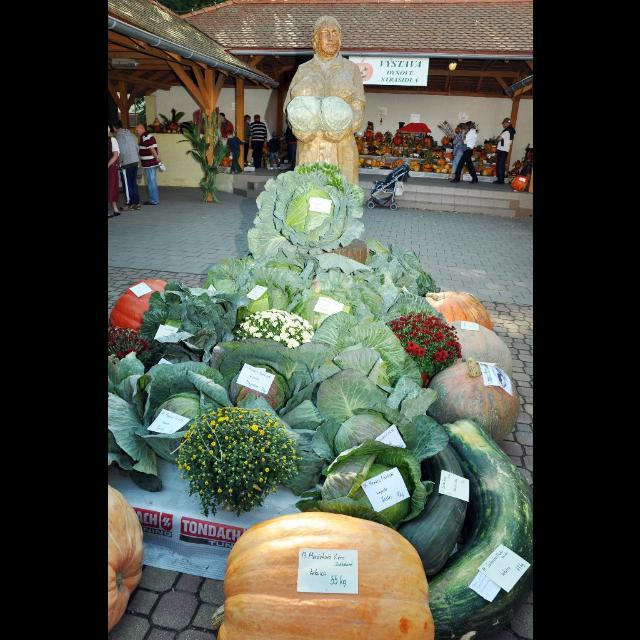Flower: (174, 406, 298, 494), (390, 313, 462, 362), (246, 313, 312, 352), (108, 327, 150, 358)
